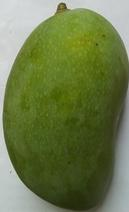Unripe: (1, 1, 129, 212)
